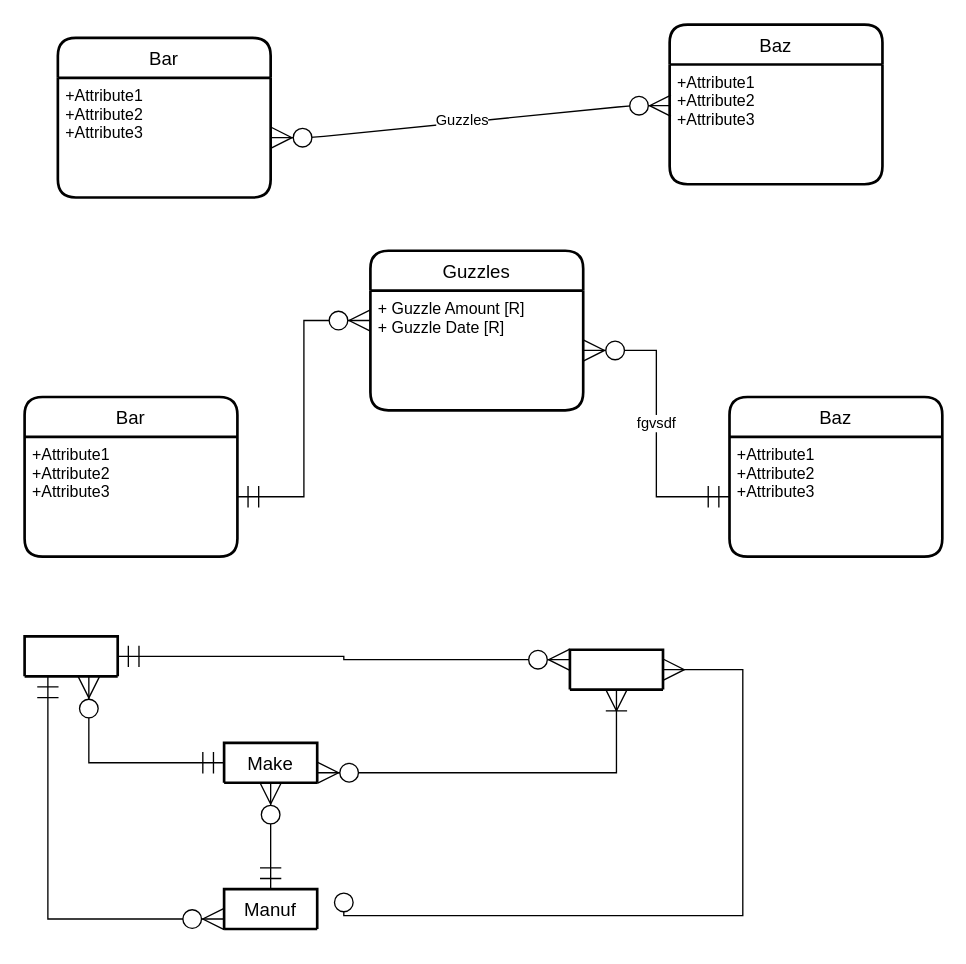
Image size: 966x964. Some labels were removed from this diagram. The shapes that lost their labels are listed below. From the top down, each one's centre as x and y in pixels, then its label:
At point (70, 655): "Car".
At point (616, 669): "Plant".
